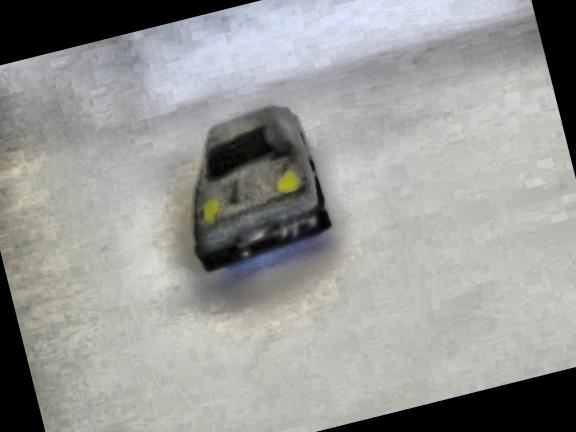normal_car: (157, 92, 343, 280)
